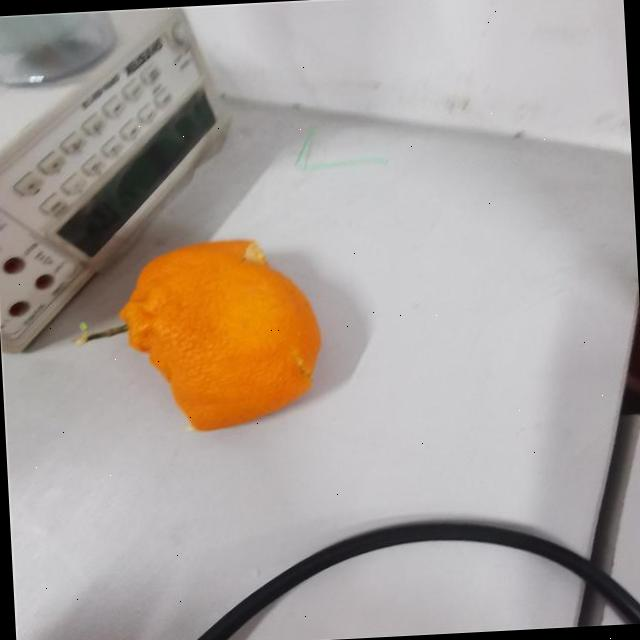orange-peel: (114, 232, 326, 435)
